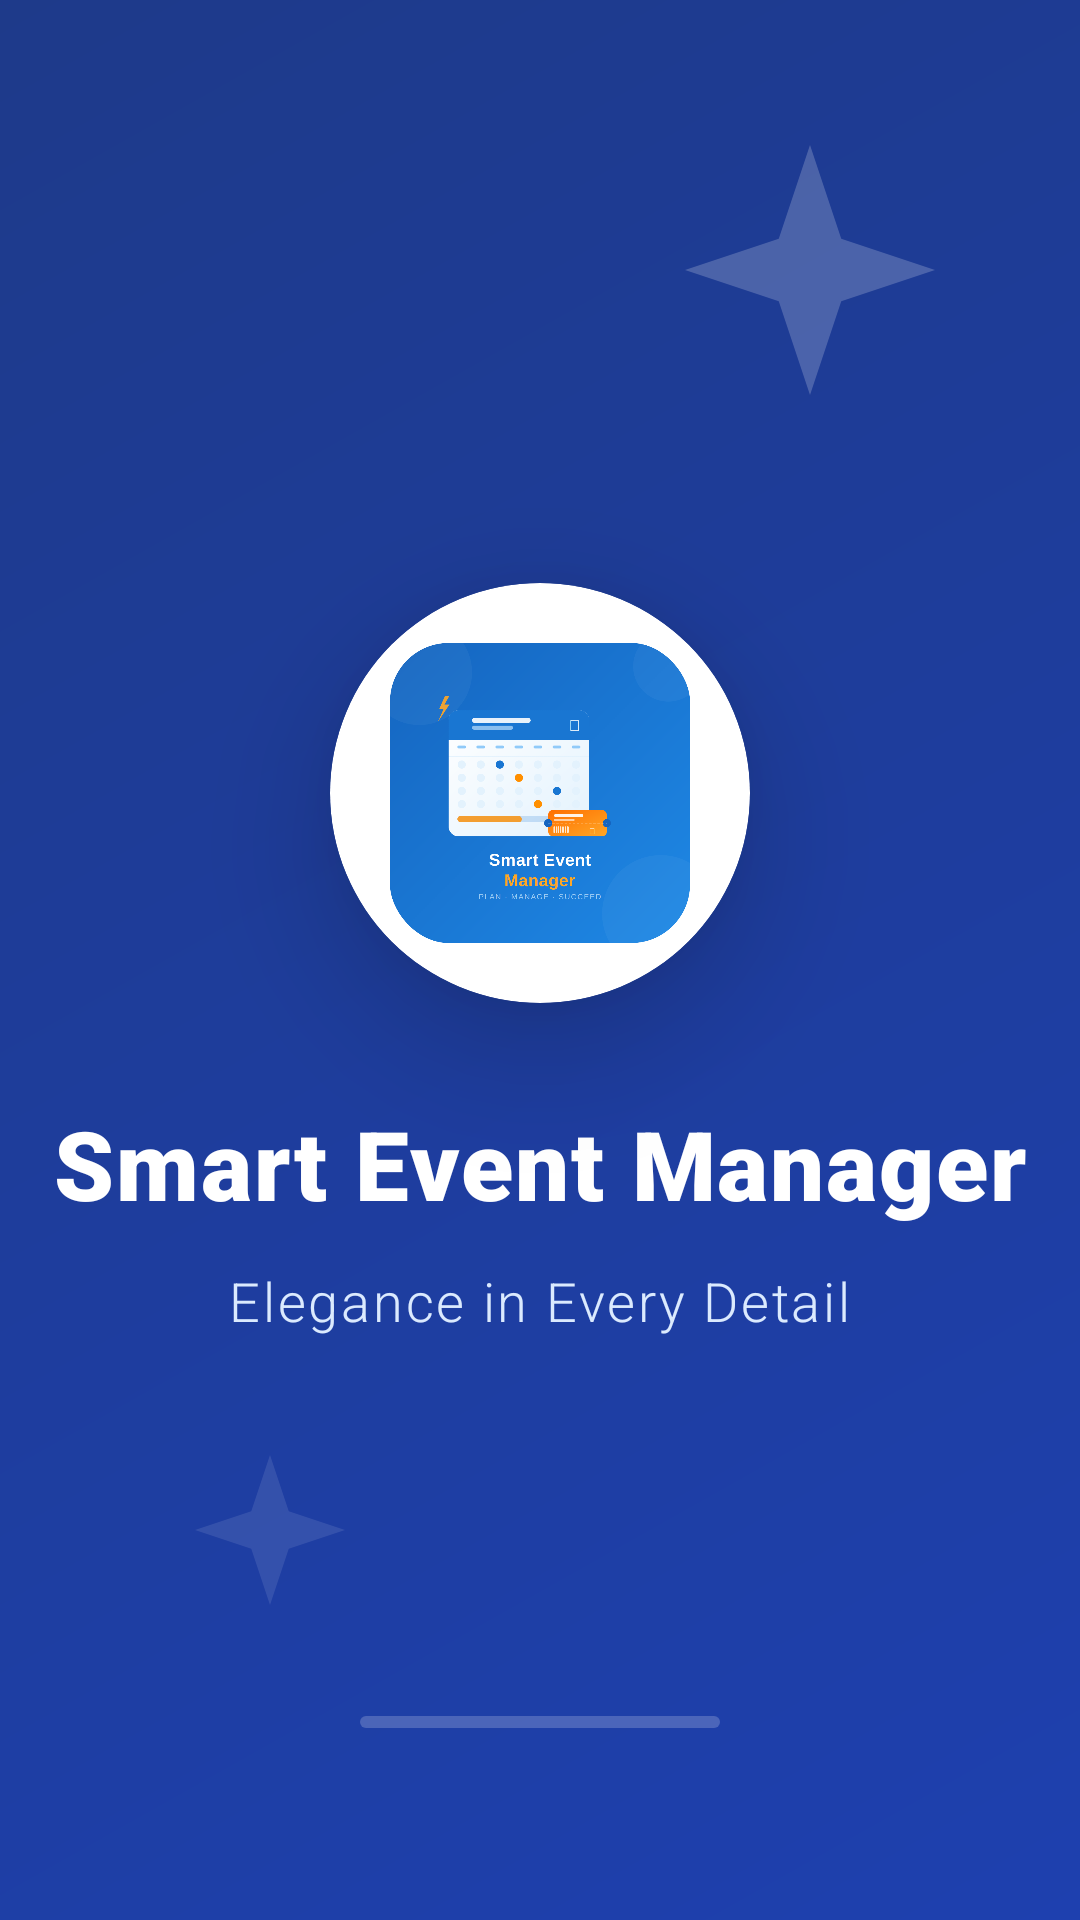

Icons on this 1080w x 1920h Android screen, each with the point to tap as (x,y):
sparkle: (810,270)
